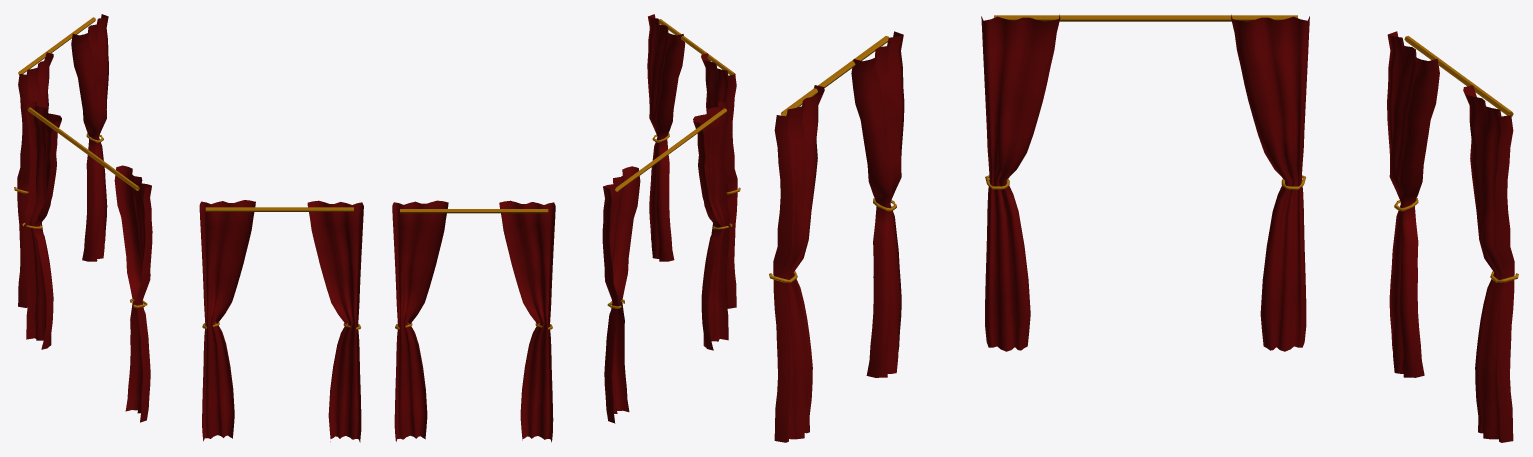
The model's file is ACT2_Curtains_fin.fbx.
3 views of the same model, side by side, from view 1: azimuth 30°, elevation 25°; view 2: azimuth 150°, elevation 25°; view 3: azimuth 270°, elevation 25° (orthographic). The views are drawn at different scales.
Visible parts, largest first — view 1: model_Curtain_Left1, model_Curtain_Right1, model_Curtain_Right, model_Curtain_Left, model_Curtain_Right2, model_Curtain_Left2, model_Curtain_Railing (×3); view 2: model_Curtain_Right2, model_Curtain_Left2, model_Curtain_Left, model_Curtain_Right, model_Curtain_Left1, model_Curtain_Right1, model_Curtain_Railing (×3); view 3: model_Curtain_Right, model_Curtain_Left, model_Curtain_Right2, model_Curtain_Left1, model_Curtain_Right1, model_Curtain_Left2, model_Curtain_Railing (×3).
Boxes of the visible parts, x1,y1,x2,y2 form: model_Curtain_Left1: (307, 200, 363, 442); model_Curtain_Right1: (199, 200, 255, 441); model_Curtain_Right: (22, 101, 61, 349); model_Curtain_Left: (114, 165, 152, 422); model_Curtain_Right2: (71, 14, 108, 261); model_Curtain_Left2: (14, 52, 53, 307); model_Curtain_Railing (×3): (18, 17, 353, 211); model_Curtain_Right2: (392, 200, 448, 441); model_Curtain_Left2: (499, 200, 555, 442); model_Curtain_Left: (693, 102, 732, 350); model_Curtain_Right: (602, 166, 640, 423); model_Curtain_Left1: (647, 14, 685, 261); model_Curtain_Right1: (701, 53, 740, 308); model_Curtain_Railing (×3): (400, 19, 735, 213); model_Curtain_Right: (1231, 14, 1309, 351); model_Curtain_Left: (981, 14, 1060, 351); model_Curtain_Right2: (1463, 85, 1518, 442); model_Curtain_Left1: (769, 85, 824, 442); model_Curtain_Right1: (851, 31, 904, 377); model_Curtain_Left2: (1387, 31, 1439, 377); model_Curtain_Railing (×3): (781, 15, 1513, 116).
Size of the model in its own units: 196 by 280 by 577.
